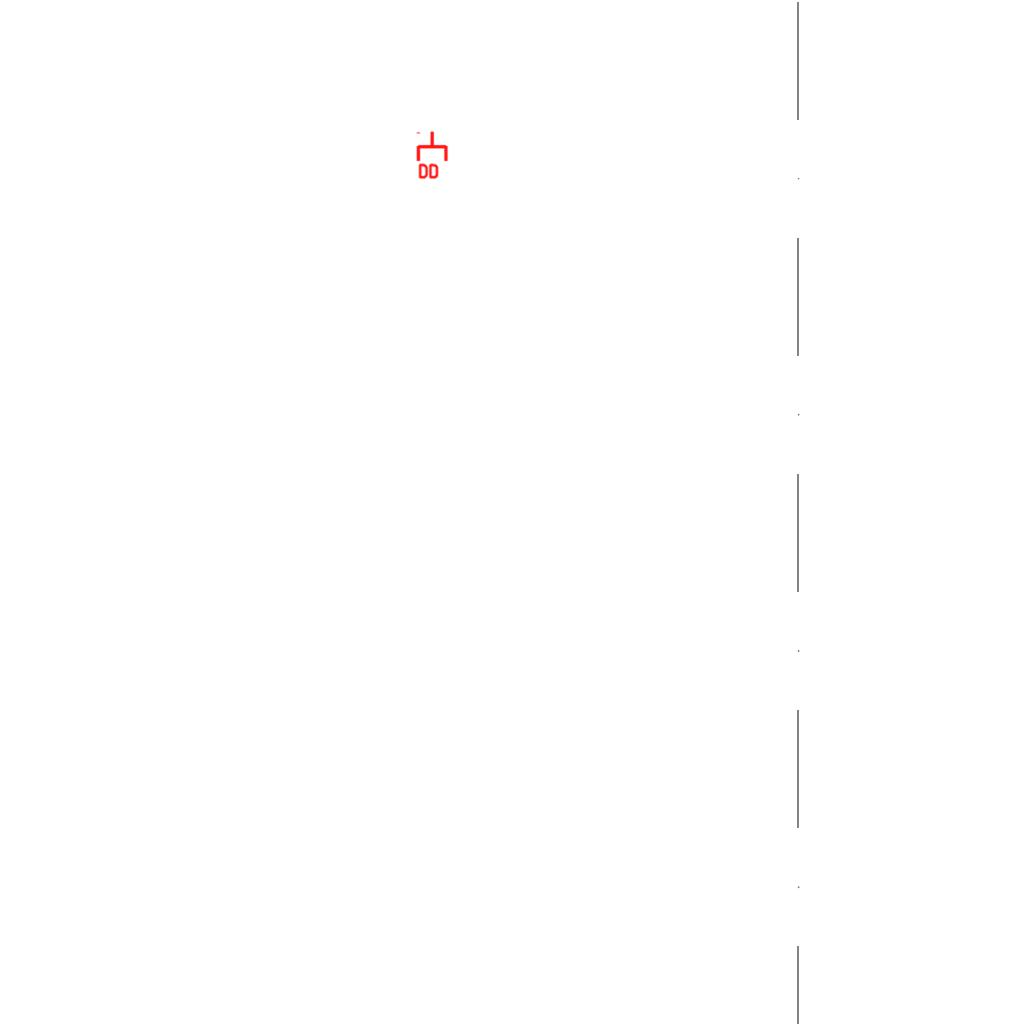Datenanschluss_zweifach: (416, 130, 450, 181)
